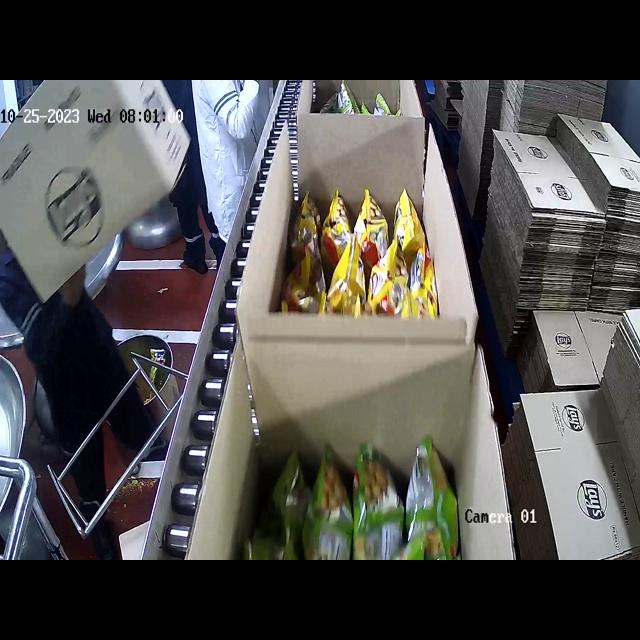salted: (303, 189, 431, 340)
yogurt: (231, 428, 456, 560)
